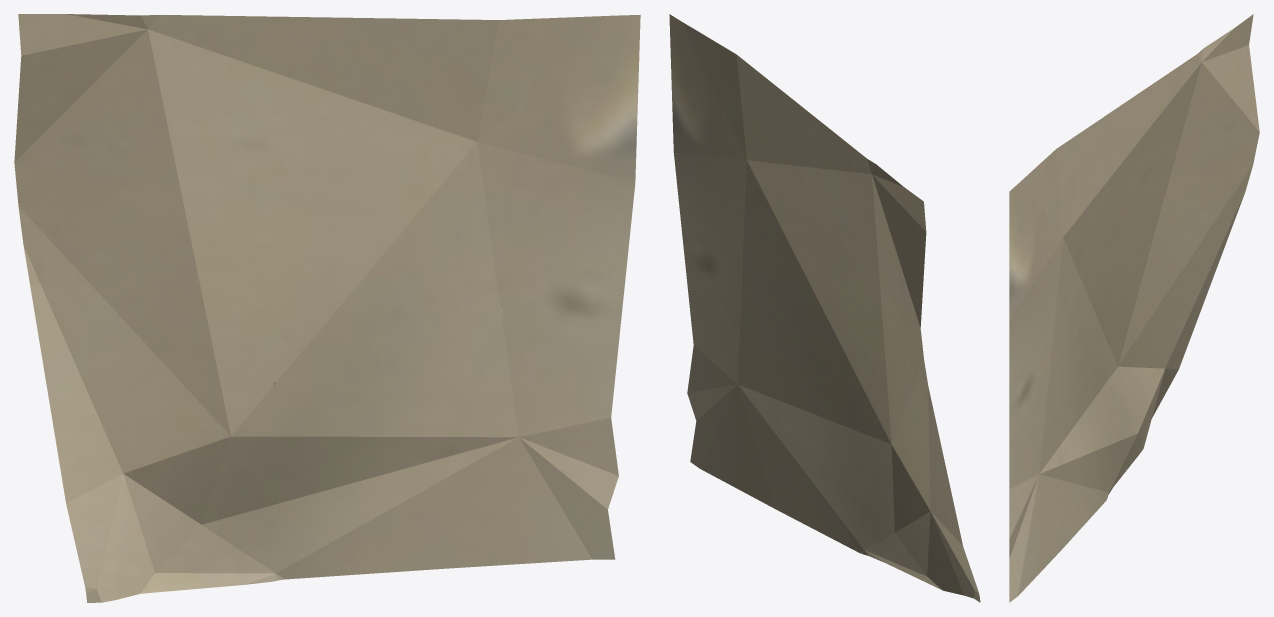
3 renders of one model, left to right at view 1: azimuth 30°, elevation 25°; view 2: azimuth 150°, elevation 25°; view 3: azimuth 270°, elevation 25°, orthographic. The views are drawn at different scales.
Size of the model in its own units: 0.758 by 0.8374 by 0.4518.
Materials: 3 (3 with a texture image).
